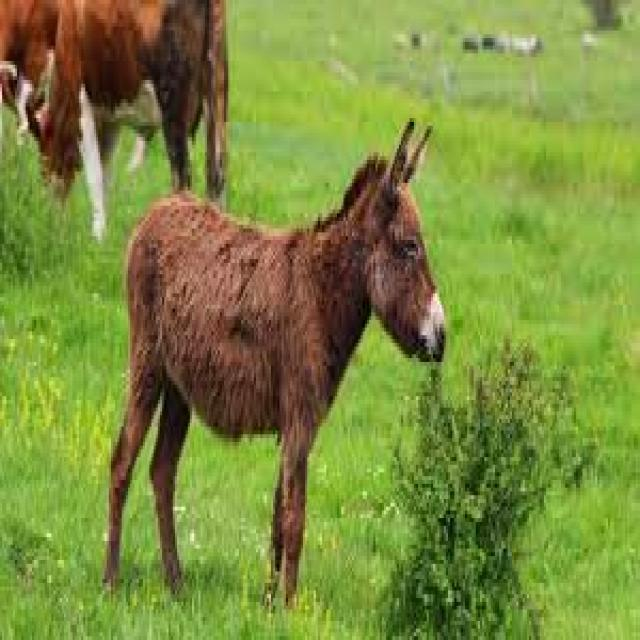donkey: (105, 118, 442, 598)
